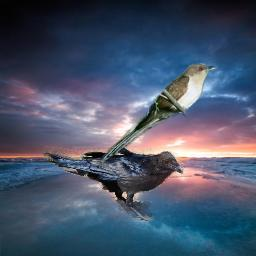Crow: (42, 146, 184, 222)
Cuckoo: (98, 62, 220, 166)
